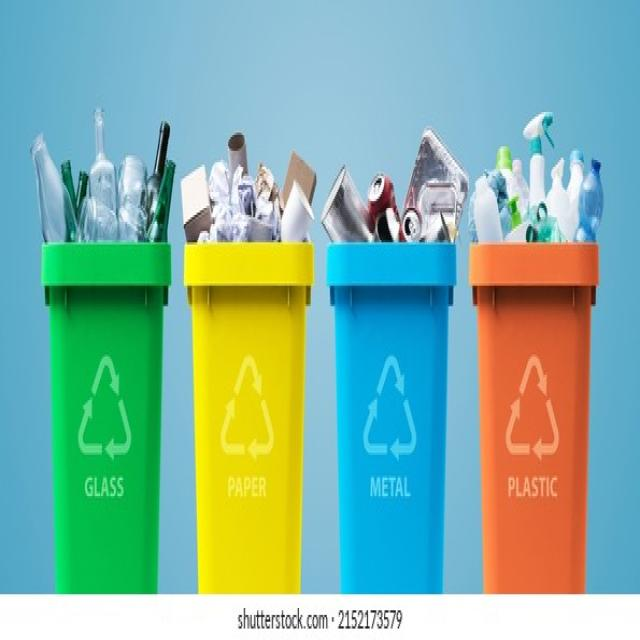cardboard: (184, 169, 210, 245), (286, 156, 315, 201), (232, 130, 251, 174)
metal: (24, 112, 175, 254), (327, 169, 362, 242), (372, 176, 399, 222), (404, 213, 424, 242)
paper: (214, 171, 279, 240)
plastic: (484, 121, 606, 245), (410, 137, 467, 236)
